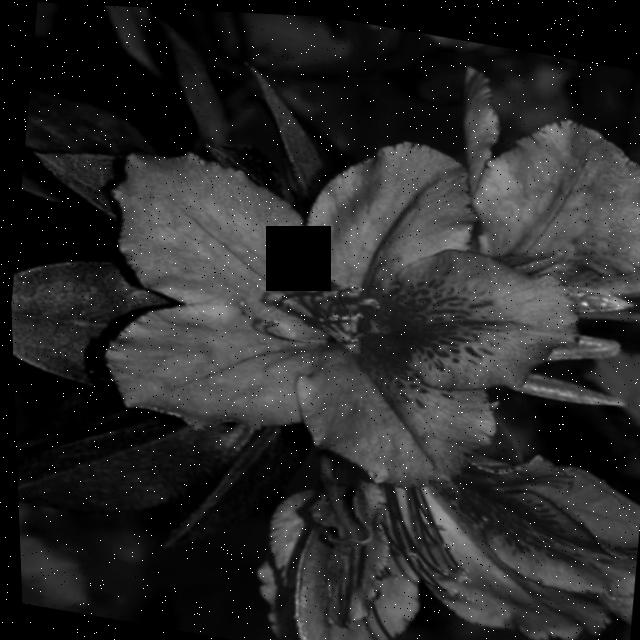azalea: (85, 110, 548, 499), (231, 391, 607, 640)
